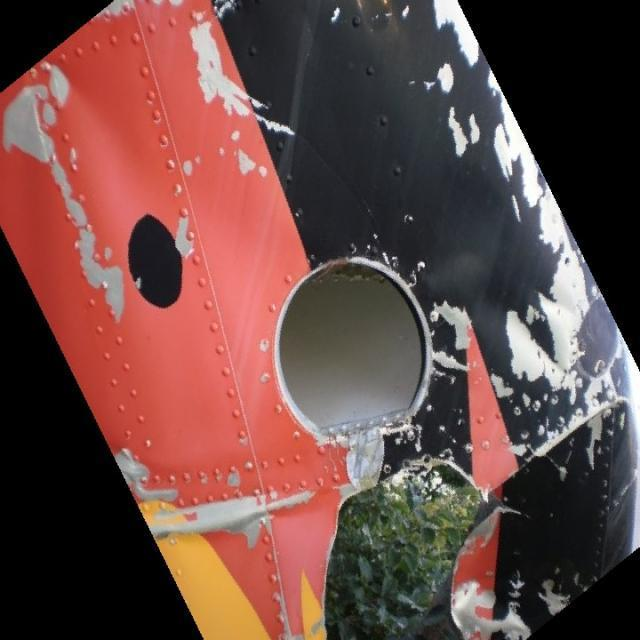dent: (46, 64, 142, 227), (420, 174, 503, 297), (474, 284, 520, 333)
